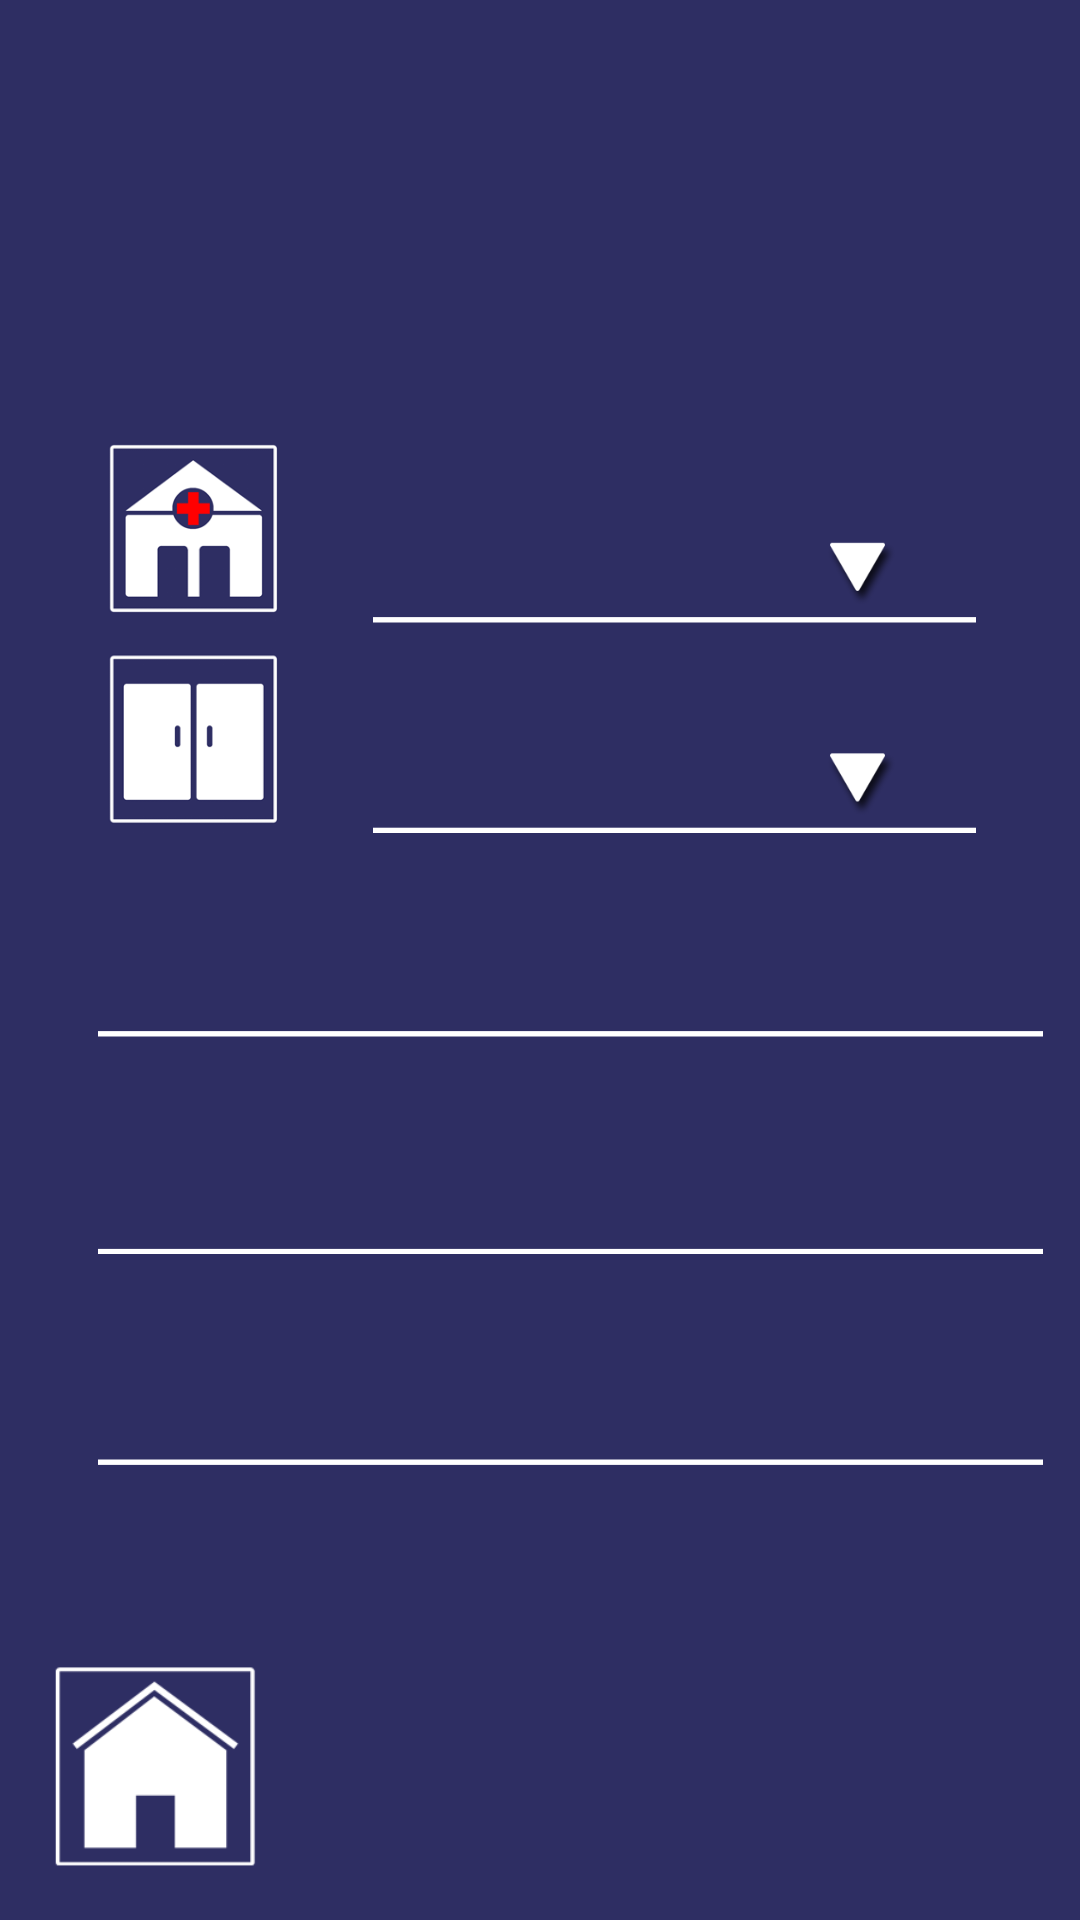

Icons on this 1080*1920 Android screen, each with the point to tap as (x,y):
home: (155,1766)
